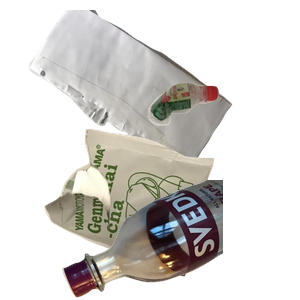glass: (60, 180, 300, 300)
paper: (27, 10, 252, 187)
plastic: (146, 80, 300, 198)
trash: (42, 126, 249, 300)
